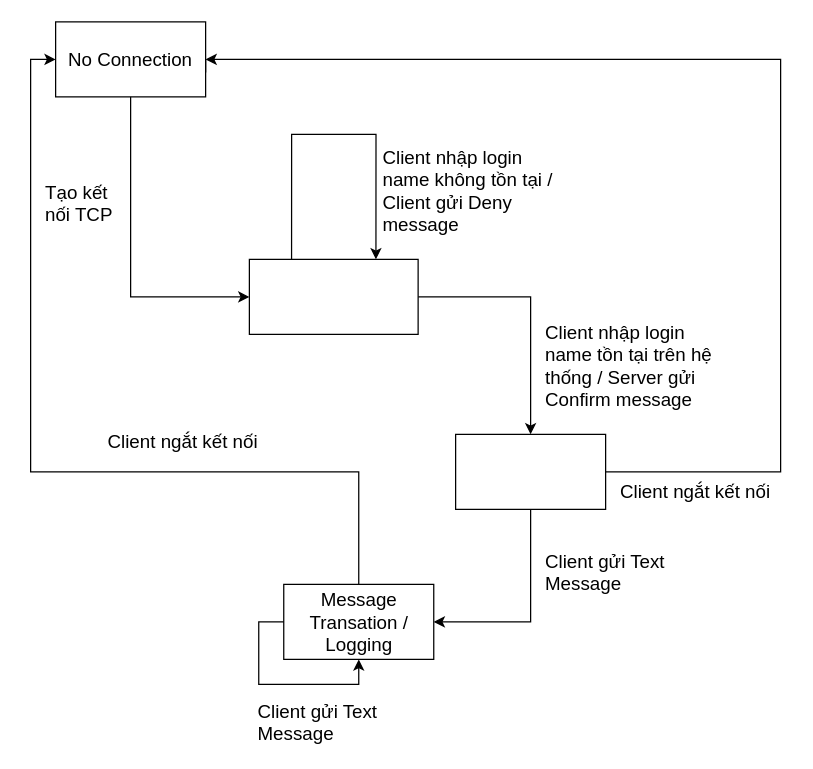
This 813x769 diagram has some shape labels left out. Each missing label, with the box of its shape:
Authenticated: (454, 433, 606, 509)
Not Authenticated: (248, 258, 418, 334)
